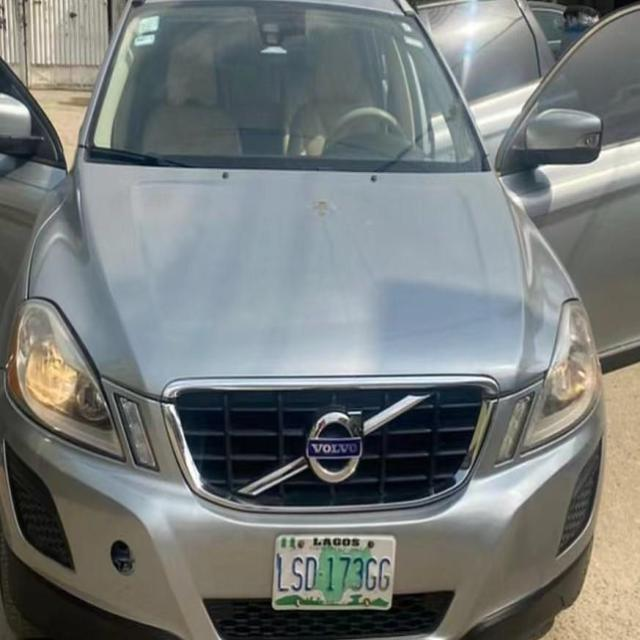Nigerian License Plate - vdataset benjamin-daria: (275, 531, 394, 612)
